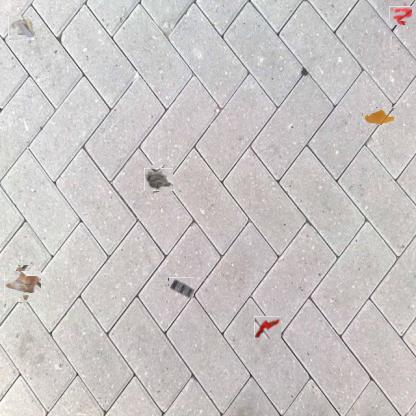dirty: (8, 268, 38, 299), (146, 167, 172, 192), (8, 16, 35, 40), (254, 316, 281, 339), (168, 277, 194, 298)
liquid: (362, 107, 394, 125), (391, 4, 410, 23)
